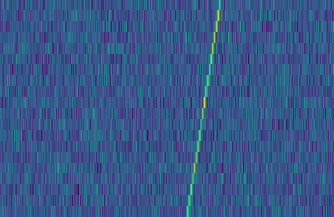signal: (183, 0, 226, 217)
